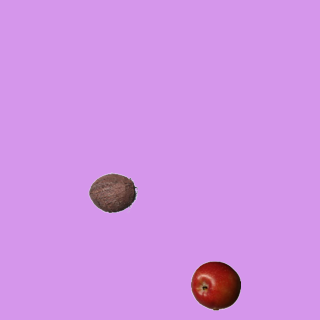Apple Braeburn: (190, 260, 240, 310)
Cocos: (87, 167, 137, 217)
